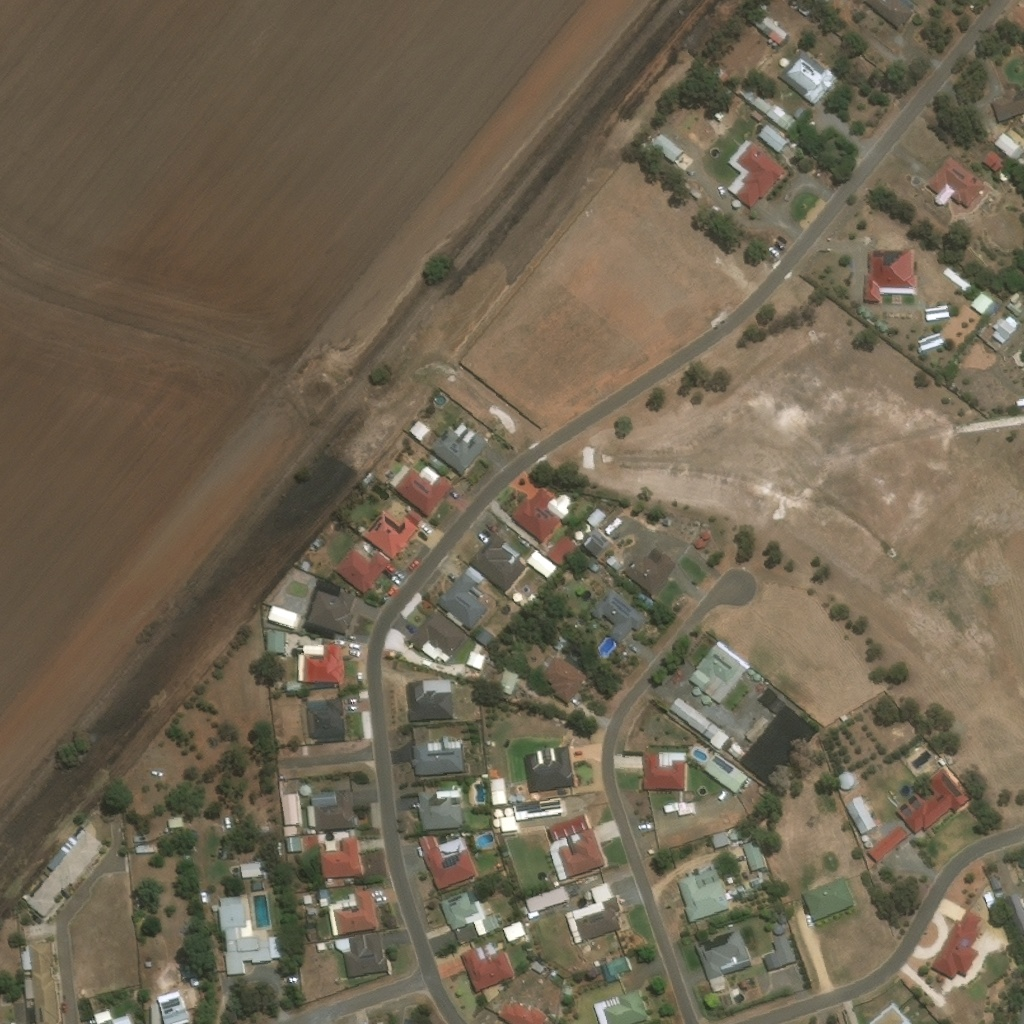0 no-damage: (19, 820, 104, 923), (739, 703, 816, 787), (894, 762, 971, 834), (217, 893, 274, 976), (723, 138, 785, 209), (546, 812, 606, 883), (564, 881, 629, 945), (687, 640, 749, 704), (692, 926, 751, 992), (929, 908, 982, 981), (466, 532, 526, 595), (509, 486, 572, 544), (418, 833, 477, 894), (585, 586, 645, 645), (776, 49, 837, 106), (435, 564, 488, 629), (428, 417, 486, 476), (677, 859, 729, 924), (666, 696, 728, 749), (393, 462, 452, 517), (923, 155, 983, 209), (406, 608, 466, 662), (360, 507, 422, 559), (861, 248, 915, 306), (333, 544, 392, 595), (736, 85, 798, 132), (438, 889, 500, 936), (460, 940, 515, 991), (621, 547, 676, 597), (327, 886, 378, 938), (523, 743, 576, 793), (28, 940, 58, 1023), (539, 654, 587, 705), (800, 876, 853, 922), (298, 695, 346, 742), (405, 677, 454, 722), (306, 588, 356, 632), (341, 930, 386, 977), (411, 733, 461, 775), (416, 788, 463, 831), (296, 639, 342, 682), (318, 836, 364, 878), (737, 94, 785, 134), (592, 988, 646, 1023), (638, 750, 685, 790), (860, 0, 918, 32), (702, 751, 747, 791), (313, 788, 354, 830), (866, 823, 906, 863), (981, 312, 1016, 353), (748, 11, 788, 46), (843, 793, 876, 835), (154, 988, 193, 1023), (514, 796, 564, 822), (763, 933, 796, 970), (525, 884, 568, 911), (544, 533, 577, 568), (498, 999, 545, 1023), (649, 132, 682, 163), (700, 767, 734, 797), (596, 954, 630, 983), (738, 762, 773, 790), (757, 123, 788, 152), (741, 714, 770, 745), (525, 550, 556, 579), (974, 308, 1002, 340), (867, 1002, 909, 1023), (993, 92, 1023, 121), (755, 685, 783, 715), (740, 839, 766, 871), (1003, 892, 1023, 933), (278, 792, 301, 825), (267, 603, 298, 625), (992, 131, 1018, 157), (495, 668, 519, 696), (315, 830, 348, 849), (464, 642, 487, 669), (1003, 292, 1023, 322), (916, 331, 943, 352), (754, 134, 778, 157), (239, 860, 269, 878), (502, 918, 526, 940), (720, 959, 751, 976), (312, 914, 332, 940), (980, 149, 1002, 172), (982, 864, 1000, 892), (707, 828, 729, 850), (471, 625, 494, 646), (266, 629, 285, 654), (583, 506, 604, 528), (922, 304, 948, 321), (969, 292, 990, 313), (663, 801, 694, 815), (981, 892, 999, 915), (264, 617, 293, 631), (725, 742, 745, 762), (834, 771, 854, 789), (518, 904, 540, 920), (738, 846, 751, 873), (310, 789, 335, 803), (313, 887, 331, 906), (673, 153, 691, 172), (662, 529, 682, 545), (488, 788, 506, 805), (92, 1007, 111, 1023), (744, 666, 761, 683), (283, 835, 301, 851), (300, 834, 318, 850), (304, 803, 316, 827), (499, 813, 516, 829), (604, 556, 620, 573), (529, 958, 545, 974), (132, 842, 153, 854), (660, 535, 679, 548), (987, 103, 998, 124), (148, 1002, 159, 1023), (878, 22, 894, 35), (111, 1013, 131, 1023), (167, 816, 182, 829), (1010, 146, 1022, 161), (499, 926, 509, 943), (966, 305, 979, 318), (291, 611, 299, 631), (465, 889, 477, 902), (297, 784, 311, 795), (725, 829, 737, 841), (771, 922, 783, 934), (285, 681, 300, 690), (689, 686, 701, 697), (877, 27, 890, 37), (502, 805, 513, 816), (699, 694, 710, 705), (283, 825, 295, 835), (711, 111, 723, 121), (315, 940, 325, 951), (572, 530, 583, 540), (578, 523, 589, 533), (730, 199, 741, 209), (513, 791, 523, 801), (635, 593, 645, 603), (675, 813, 694, 818), (996, 173, 1006, 182), (491, 818, 500, 828), (505, 794, 515, 803), (643, 597, 652, 607), (302, 892, 310, 903), (662, 809, 676, 815), (777, 58, 786, 67), (305, 905, 314, 914), (492, 809, 502, 817), (133, 835, 145, 841), (298, 892, 303, 904), (501, 829, 516, 833), (551, 880, 559, 886), (661, 804, 664, 814)
4 un-classified: (726, 248, 742, 262), (725, 253, 738, 266)
